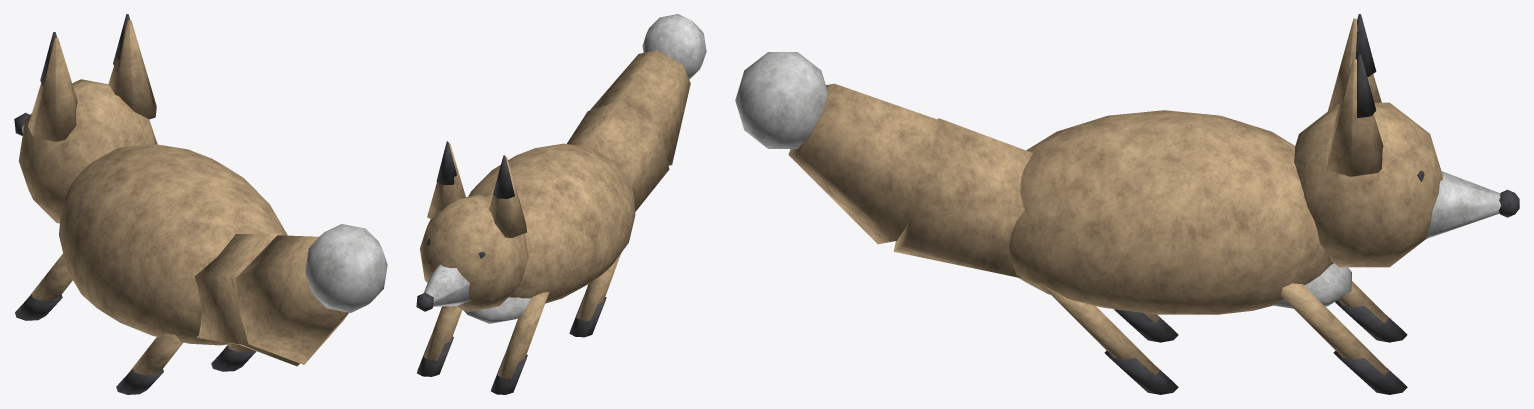
File: mob_rubah_walk2.obj
3 views of the same model, side by side, from view 1: azimuth 30°, elevation 25°; view 2: azimuth 150°, elevation 25°; view 3: azimuth 270°, elevation 25° (orthographic). The views are drawn at different scales.
Visible parts, largest first — view 1: mob_rubah_walk2; view 2: mob_rubah_walk2; view 3: mob_rubah_walk2.
Part boxes in pixels (<box>): mob_rubah_walk2: <box>14,14,387,394</box>; mob_rubah_walk2: <box>416,14,706,394</box>; mob_rubah_walk2: <box>735,14,1519,394</box>.
Size of the model in its own units: 0.3759 by 0.5915 by 1.29.
Materials: 1 (1 with a texture image).
